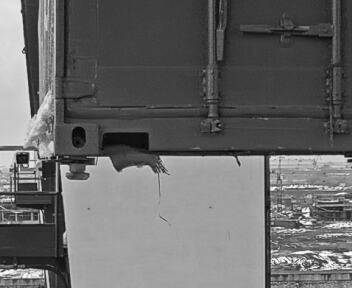twist_lock_1: (54, 152, 100, 186)
